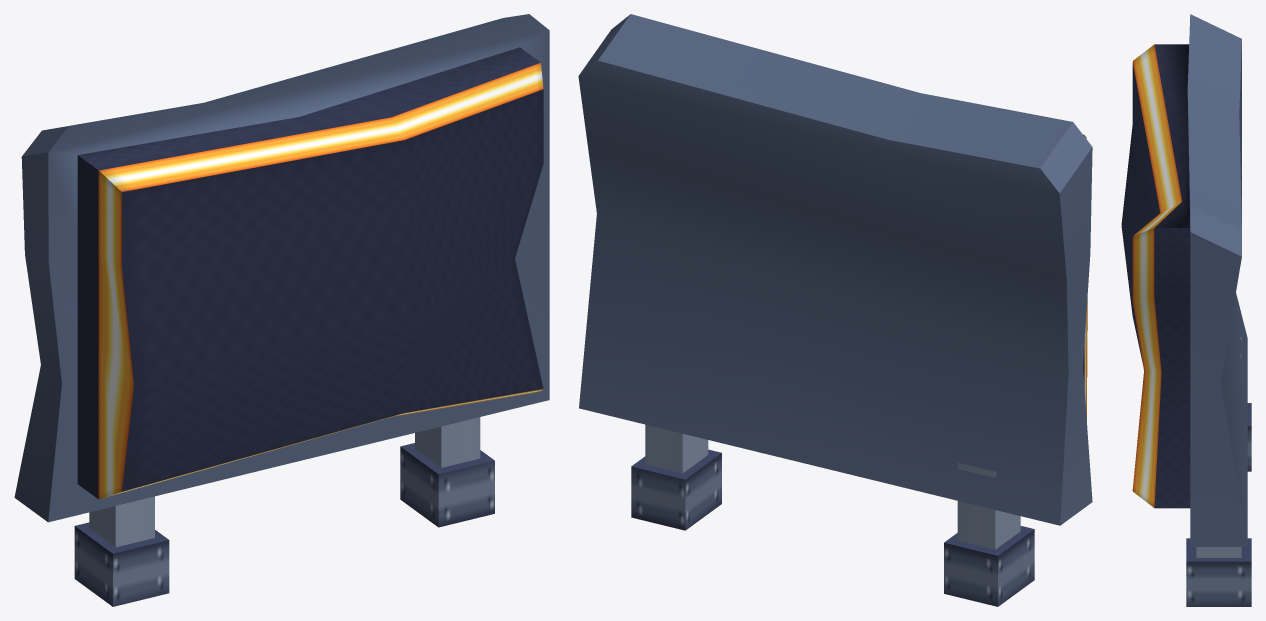
The model's file is LetreiroPequeno.fbx.
3 renders of one model, left to right at view 1: azimuth 30°, elevation 25°; view 2: azimuth 150°, elevation 25°; view 3: azimuth 270°, elevation 25°, orthographic. The views are drawn at different scales.
Visible parts, largest first — view 1: Letreiro pequeno; view 2: Letreiro pequeno; view 3: Letreiro pequeno.
Boxes of the visible parts, x1,y1,x2,y2 form: Letreiro pequeno: (14,14,549,606); Letreiro pequeno: (578,14,1092,606); Letreiro pequeno: (1121,14,1251,606).
Bounding box in the file's own units: 211 × 55.2 × 195.
